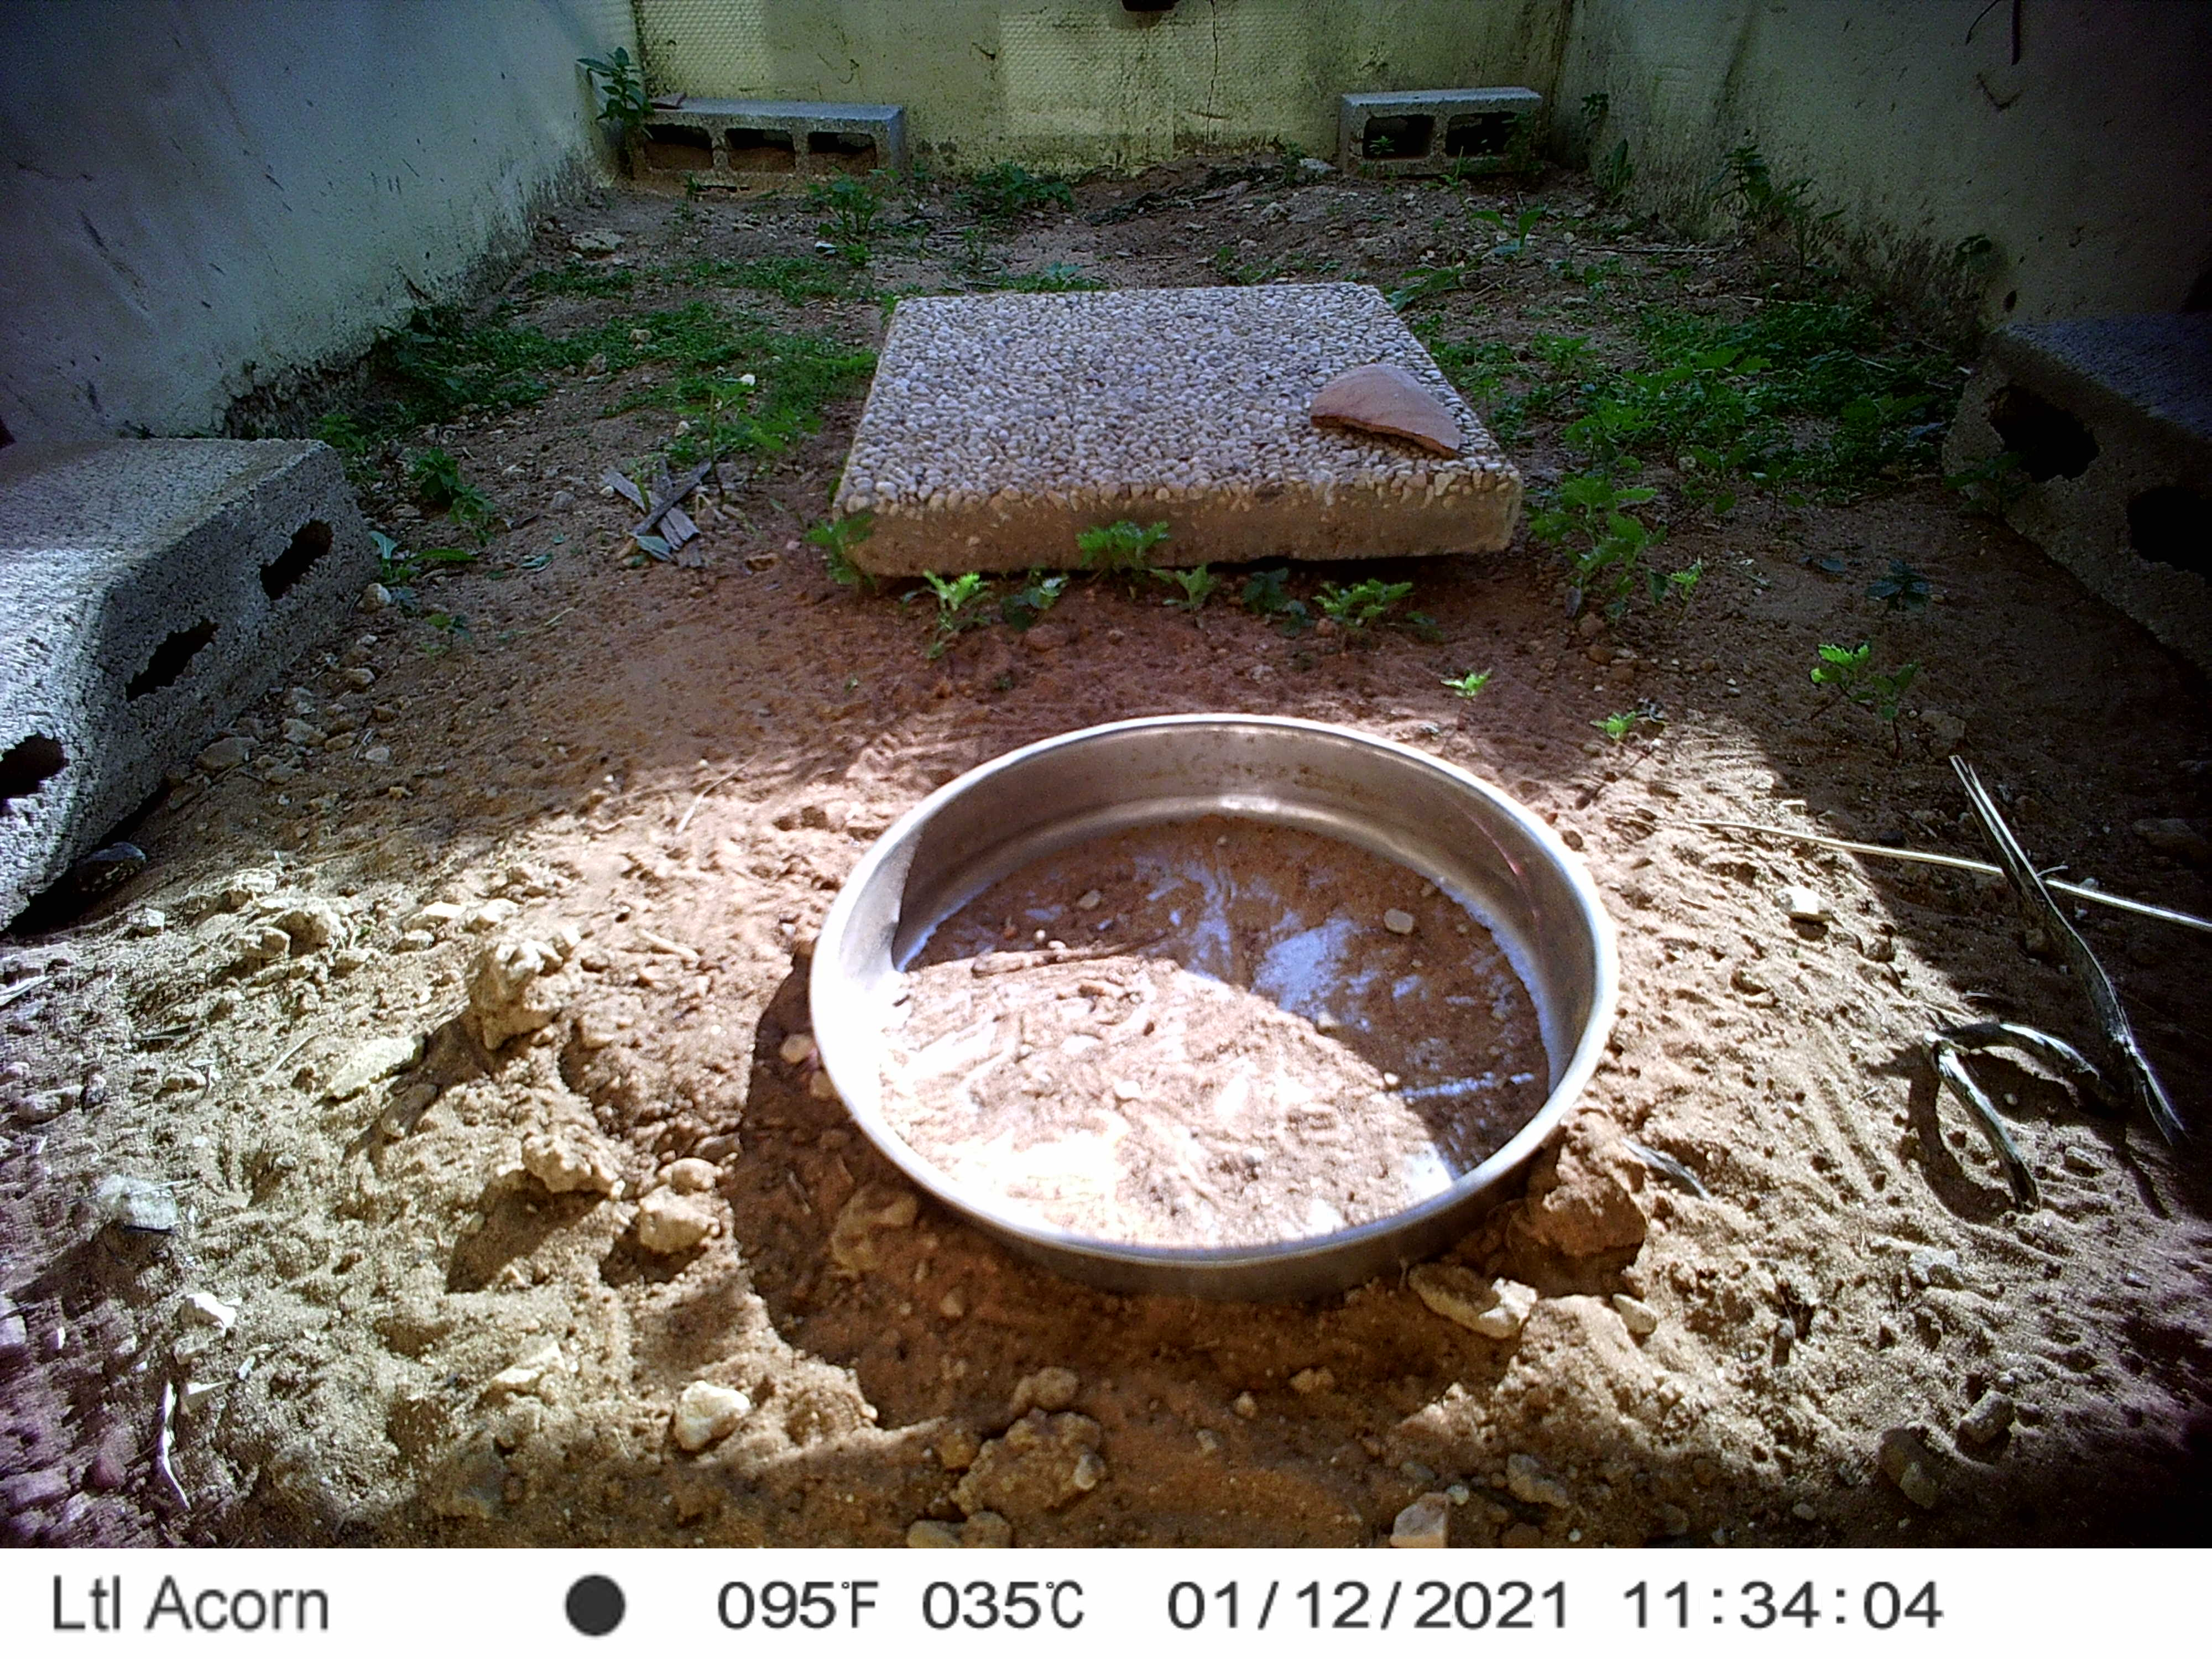lizard: (47, 823, 165, 910)
